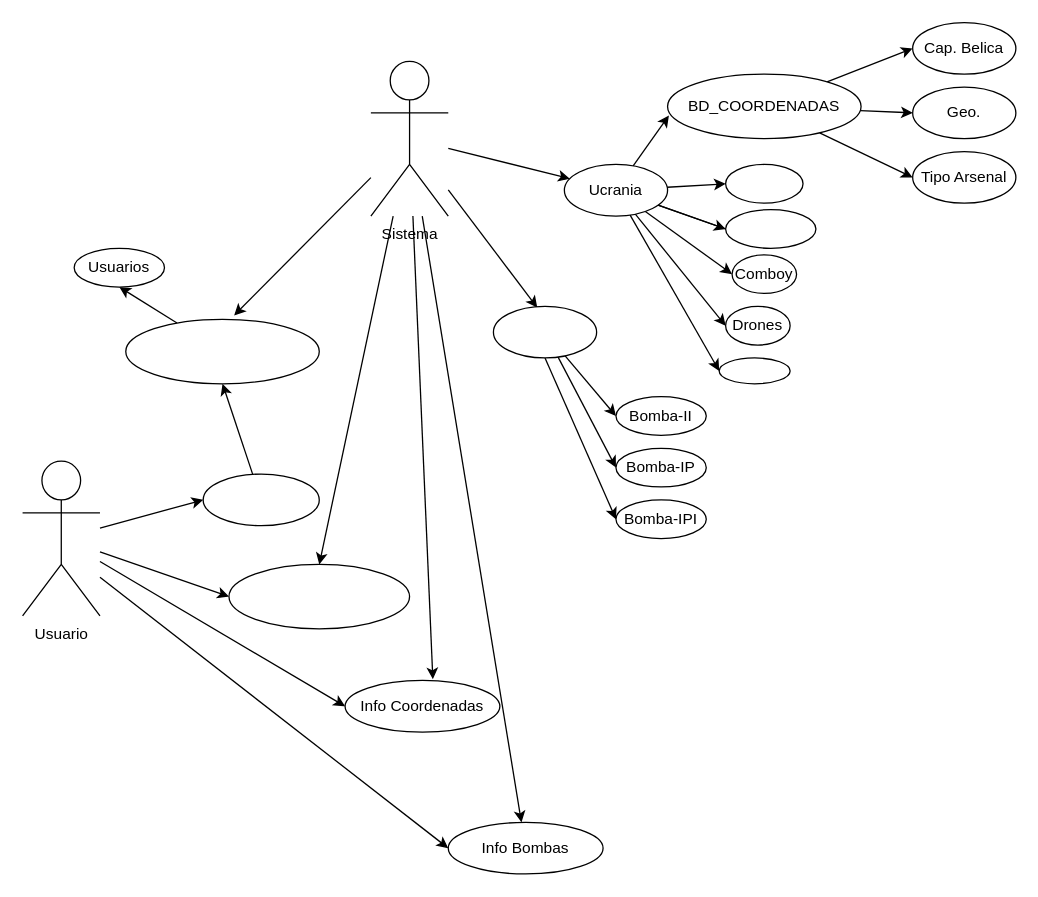
The diagram is 1038 pixels wide and 897 high, and some of its shapes have lost their labels. Each missing label, with the centre of its shape:
"Aviones" belongs at point 763,183.
"BD_USUARIOS" belongs at point 221,351.
"Bombarderos" belongs at point 770,228.
"Informacion BD_COORDENADAS" belongs at point 319,596.
"Login" belongs at point 260,499.
"Rusia" belongs at point 544,331.
"Tanques" belongs at point 754,370.
